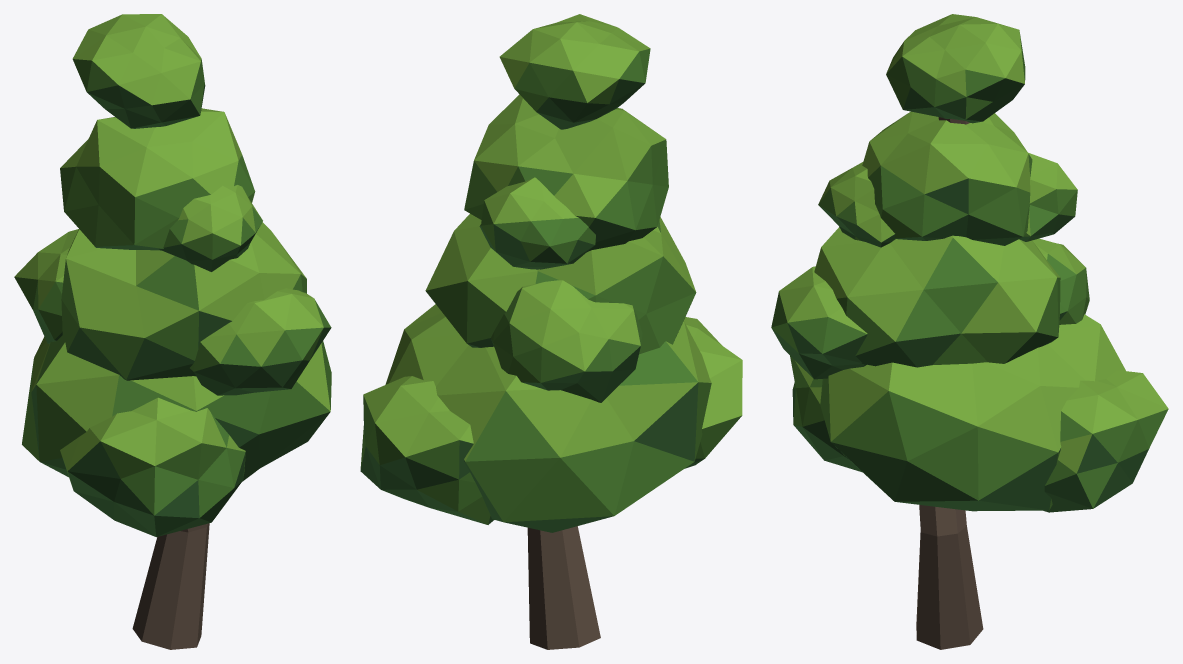
Rendered from T08_ColumnarRoadsideTree.glb.
3 renders of one model, left to right at view 1: azimuth 30°, elevation 25°; view 2: azimuth 150°, elevation 25°; view 3: azimuth 270°, elevation 25°, orthographic. The views are drawn at different scales.
Visible parts, largest first — view 1: T08_ColumnarRoadsideTree; view 2: T08_ColumnarRoadsideTree; view 3: T08_ColumnarRoadsideTree.
Boxes of the visible parts, <box> form: T08_ColumnarRoadsideTree: <box>14,14,331,649</box>; T08_ColumnarRoadsideTree: <box>360,14,742,649</box>; T08_ColumnarRoadsideTree: <box>771,14,1168,649</box>.
Size of the model in its own units: 3.24 by 6.63 by 3.96.
